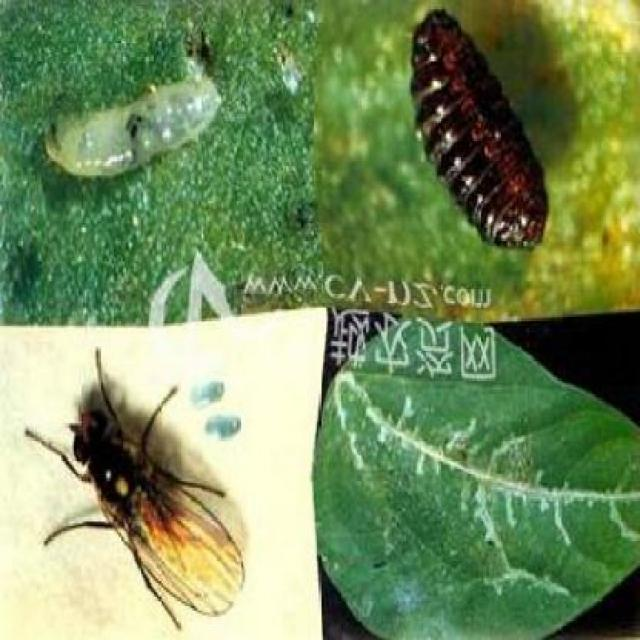whorl-maggot: (400, 9, 555, 257), (46, 62, 223, 183)
